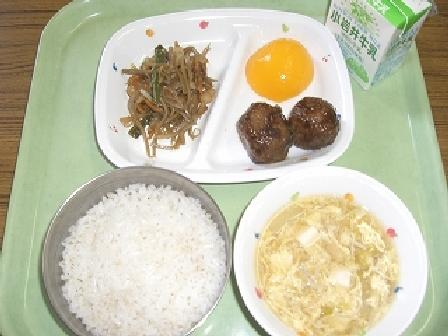Milk: (320, 0, 435, 75)
Rice: (47, 173, 233, 332)
Soups: (233, 174, 425, 335)
cutlet: (227, 97, 347, 161)
peach: (240, 35, 317, 97)
salad with sauce: (108, 49, 216, 140)
